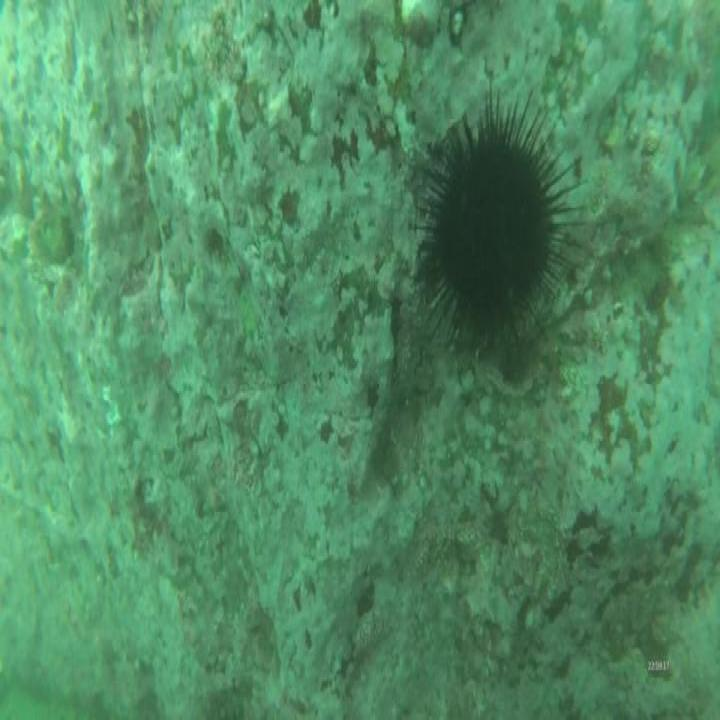echinus: (429, 122, 557, 322)
